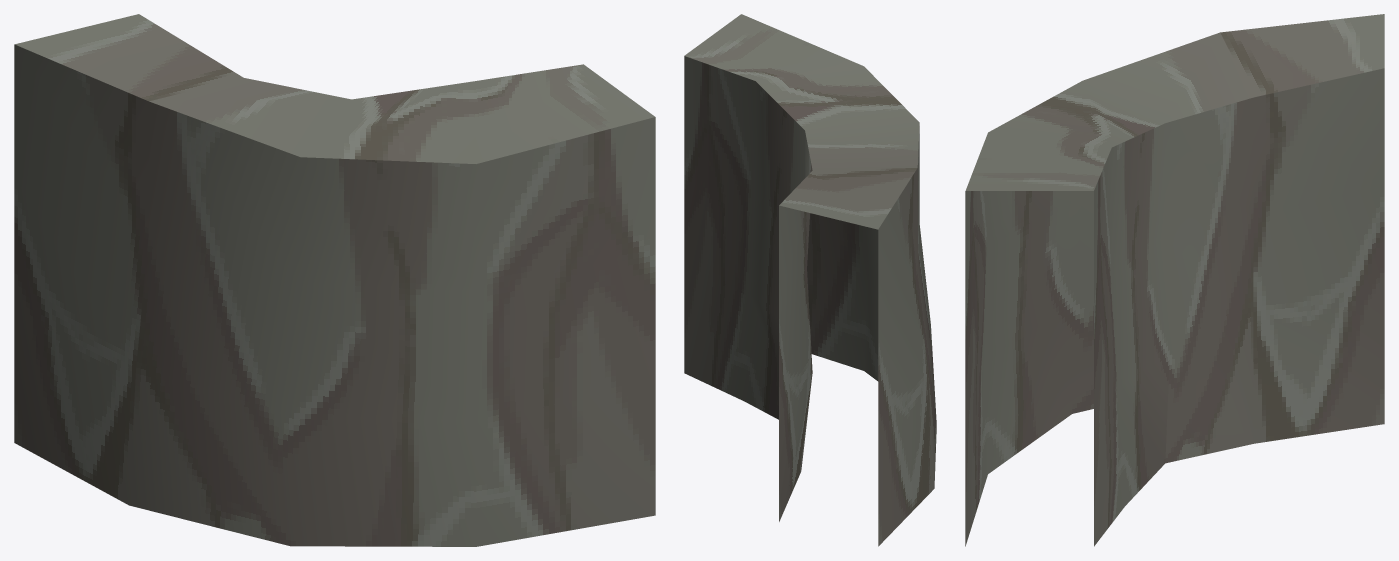
File: wall_curve.glb
3 views of the same model, side by side, from view 1: azimuth 30°, elevation 25°; view 2: azimuth 150°, elevation 25°; view 3: azimuth 270°, elevation 25° (orthographic). The views are drawn at different scales.
Parts seen in each view (by area): view 1: wal_curve; view 2: wal_curve; view 3: wal_curve.
Boxes of the visible parts, <box> form: wal_curve: <box>14,14,655,546</box>; wal_curve: <box>684,14,936,546</box>; wal_curve: <box>965,14,1384,546</box>.
Bounding box in the file's own units: 1.18 × 1.11 × 1.18.
Materials: 1 (1 with a texture image).
